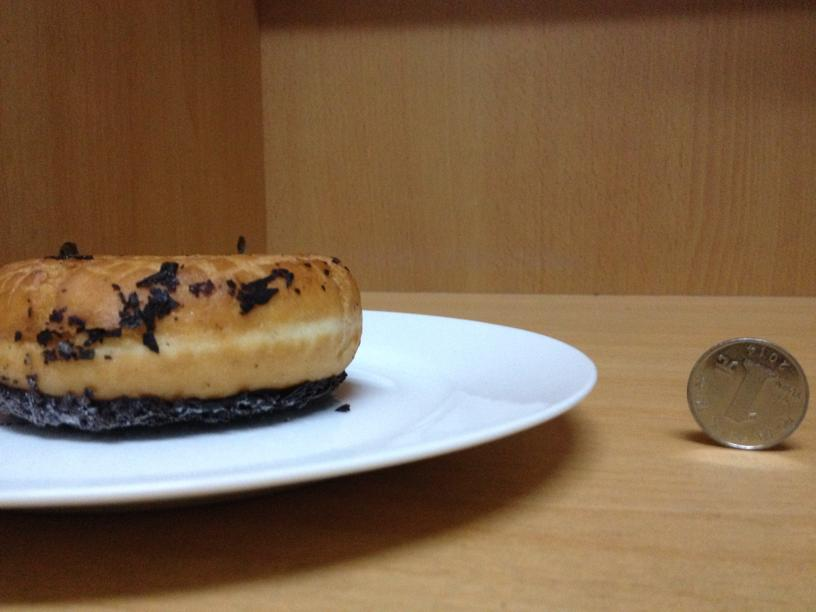coin: (683, 336, 808, 451)
doughnut: (2, 251, 362, 436)
